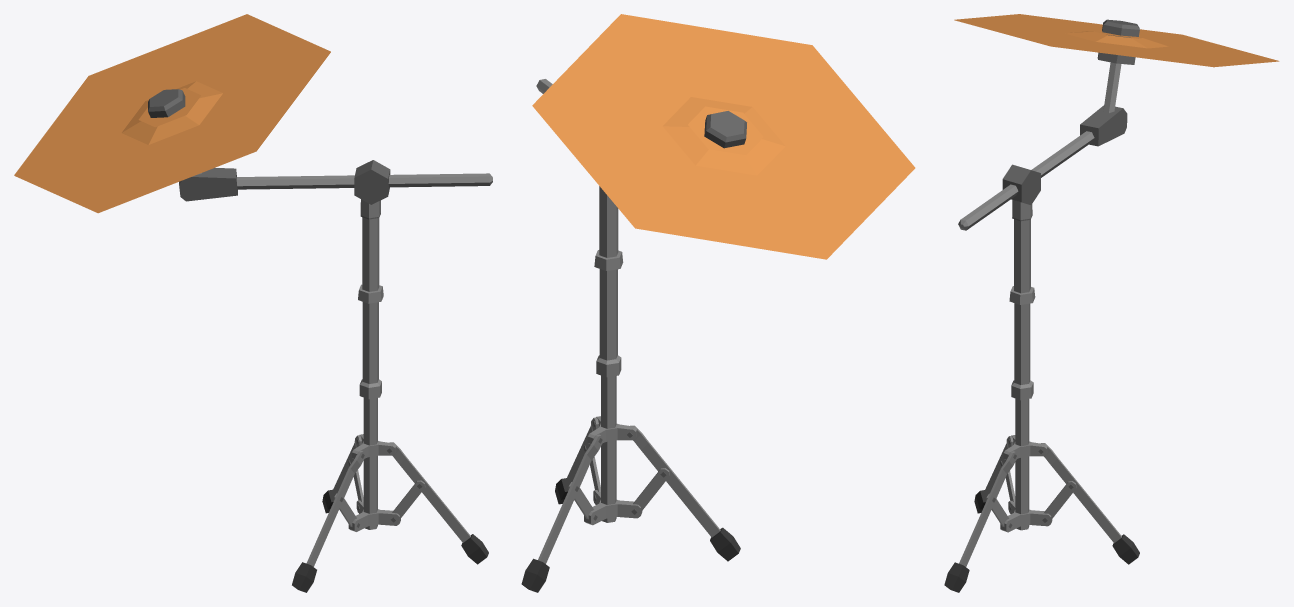
The model's file is rideCymbal.glb.
3 renders of one model, left to right at view 1: azimuth 30°, elevation 25°; view 2: azimuth 150°, elevation 25°; view 3: azimuth 270°, elevation 25°, orthographic. The views are drawn at different scales.
Visible parts, largest first — view 1: Crash_Cymbal_Cylinder.002; view 2: Crash_Cymbal_Cylinder.002; view 3: Crash_Cymbal_Cylinder.002.
Part boxes in pixels (x1,y1,x2,y2): Crash_Cymbal_Cylinder.002: [14, 14, 492, 592]; Crash_Cymbal_Cylinder.002: [521, 14, 915, 592]; Crash_Cymbal_Cylinder.002: [944, 14, 1279, 592].
Size of the model in its own units: 1.8 by 2.32 by 1.42.
